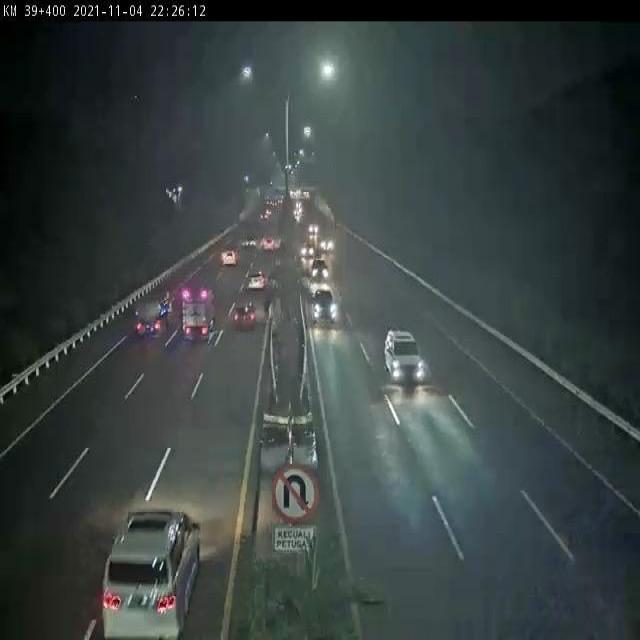car: (107, 500, 200, 640), (382, 334, 433, 402), (312, 285, 341, 328), (232, 298, 260, 330), (310, 257, 335, 283), (219, 246, 241, 270), (249, 270, 263, 294), (305, 243, 311, 261)
truck-l-: (138, 284, 171, 339)
truck-m-: (179, 295, 216, 336)
